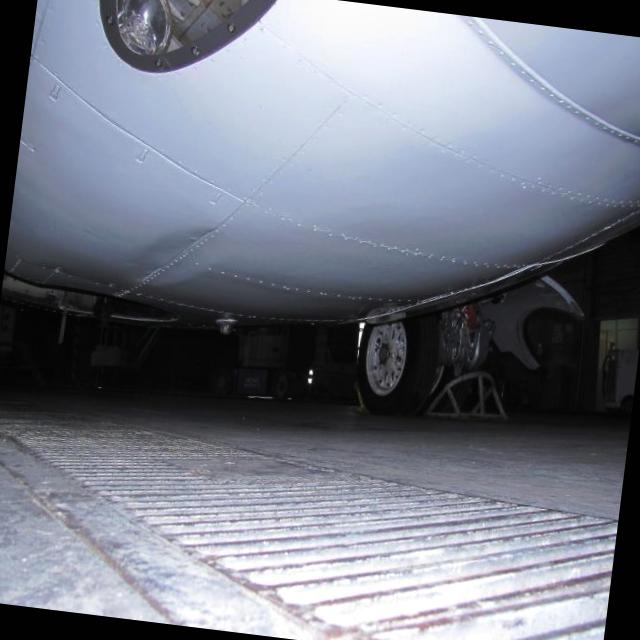dent: (120, 215, 234, 302)
